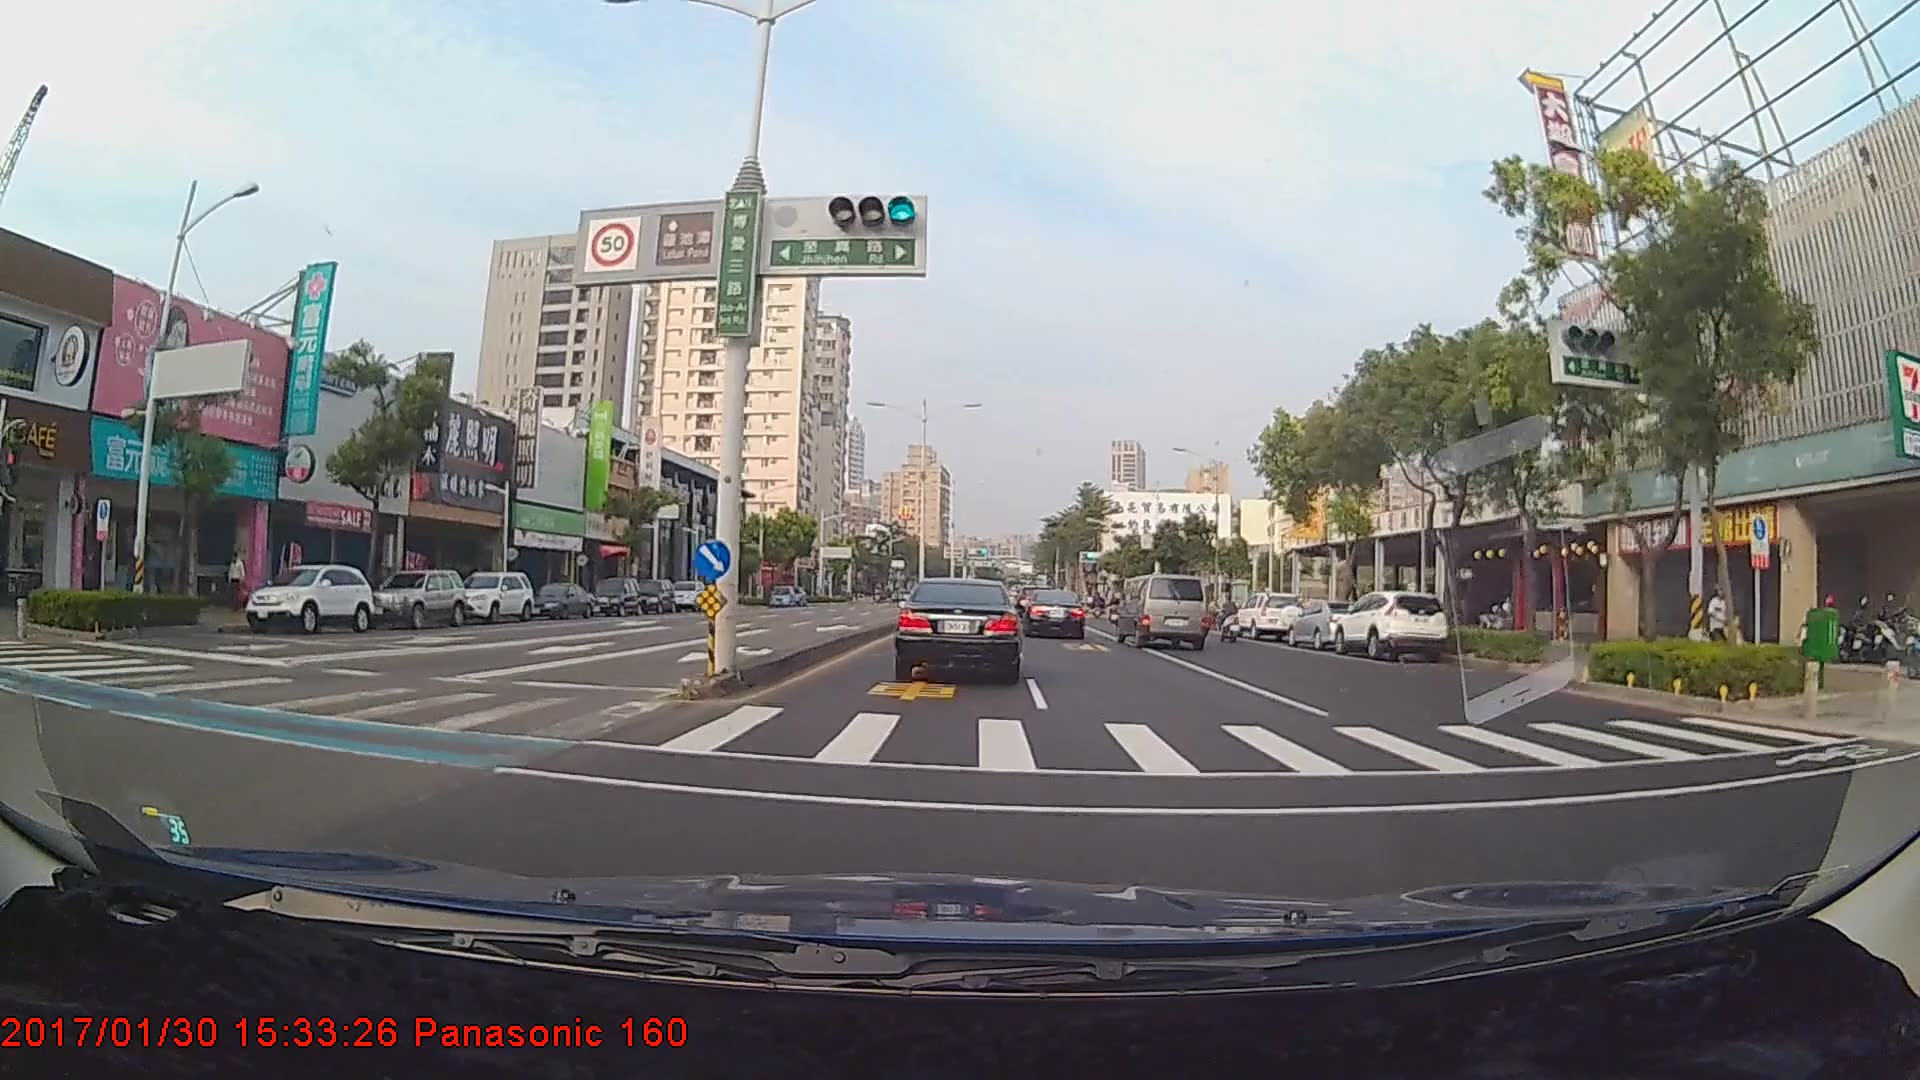pedestrian: (225, 555, 249, 616)
rider: (1211, 592, 1248, 642)
vehicle: (896, 579, 1019, 678), (240, 563, 372, 633), (1328, 587, 1451, 659), (1118, 574, 1208, 650), (358, 566, 464, 628), (452, 571, 536, 625), (1286, 598, 1371, 649), (1018, 589, 1087, 641), (1236, 592, 1303, 641), (520, 579, 593, 621), (588, 576, 641, 617), (673, 580, 713, 614), (635, 580, 675, 614)
